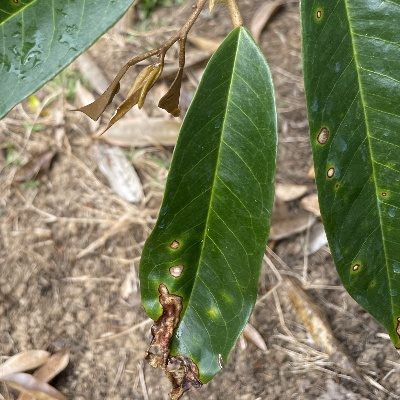Leaf_Phomopsis: (137, 24, 280, 395), (299, 0, 400, 367)
